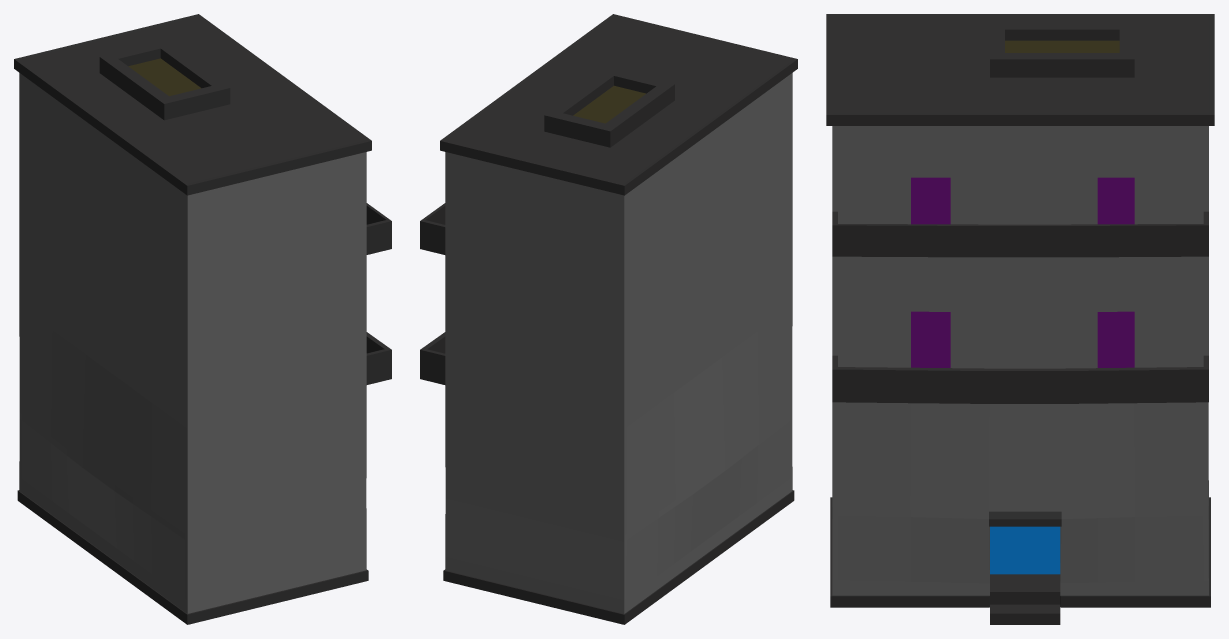
The model's file is Building6.obj.
The picture shows the model from 3 angles, left to right: view 1: azimuth 30°, elevation 25°; view 2: azimuth 150°, elevation 25°; view 3: azimuth 270°, elevation 25°; orthographic projection. The views are drawn at different scales.
Parts seen in each view (by area): view 1: Cube; view 2: Cube; view 3: Cube.
Boxes of the visible parts, <box> form: Cube: <box>14,14,391,624</box>; Cube: <box>420,14,797,624</box>; Cube: <box>826,14,1214,624</box>.
Bounding box in the file's own units: 5.26 × 10.68 × 7.34.
1 material, 1 textured.
